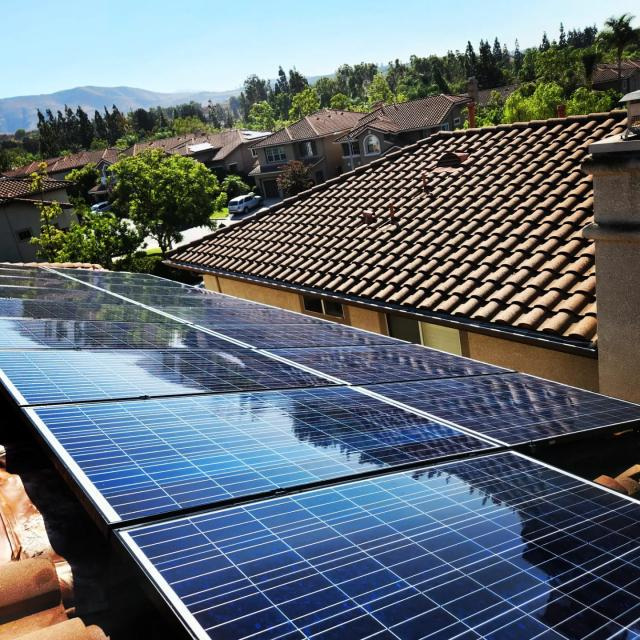clean-solar-panel: (0, 264, 640, 640)
